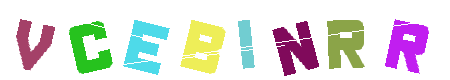B: (163, 0, 243, 80)
C: (49, 0, 129, 80)
E: (134, 0, 214, 80)
I: (183, 0, 263, 80)
N: (255, 0, 335, 80)
R: (304, 0, 384, 80), (366, 0, 446, 80)
V: (0, 0, 80, 80)
